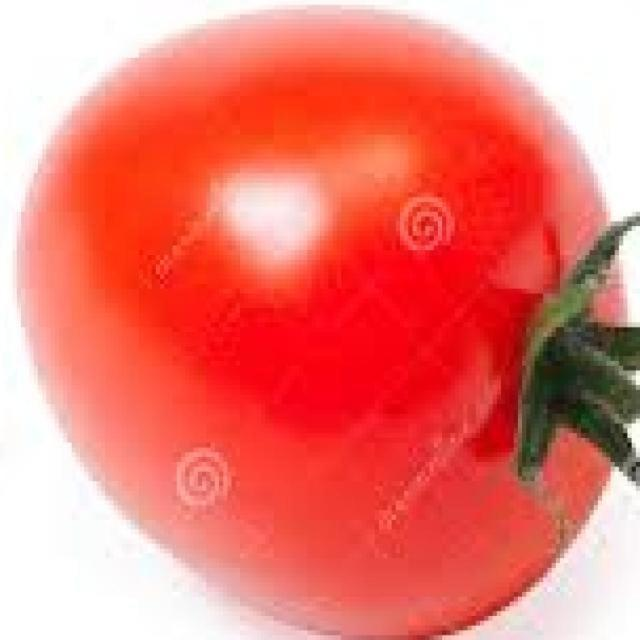Healthy Fruit: (6, 0, 427, 427)
